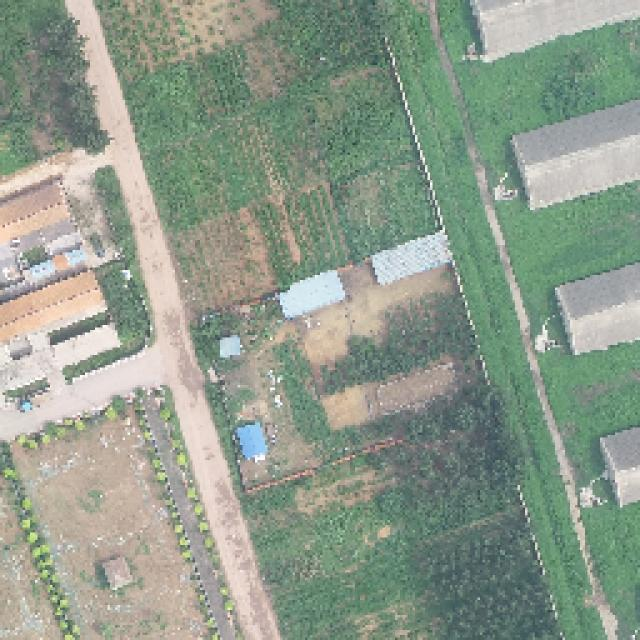Batiment: (512, 100, 640, 209), (471, 0, 640, 62), (555, 262, 640, 354), (1, 270, 101, 341), (0, 182, 70, 244), (373, 233, 451, 284), (280, 270, 345, 318), (600, 428, 640, 506), (236, 422, 269, 459)
